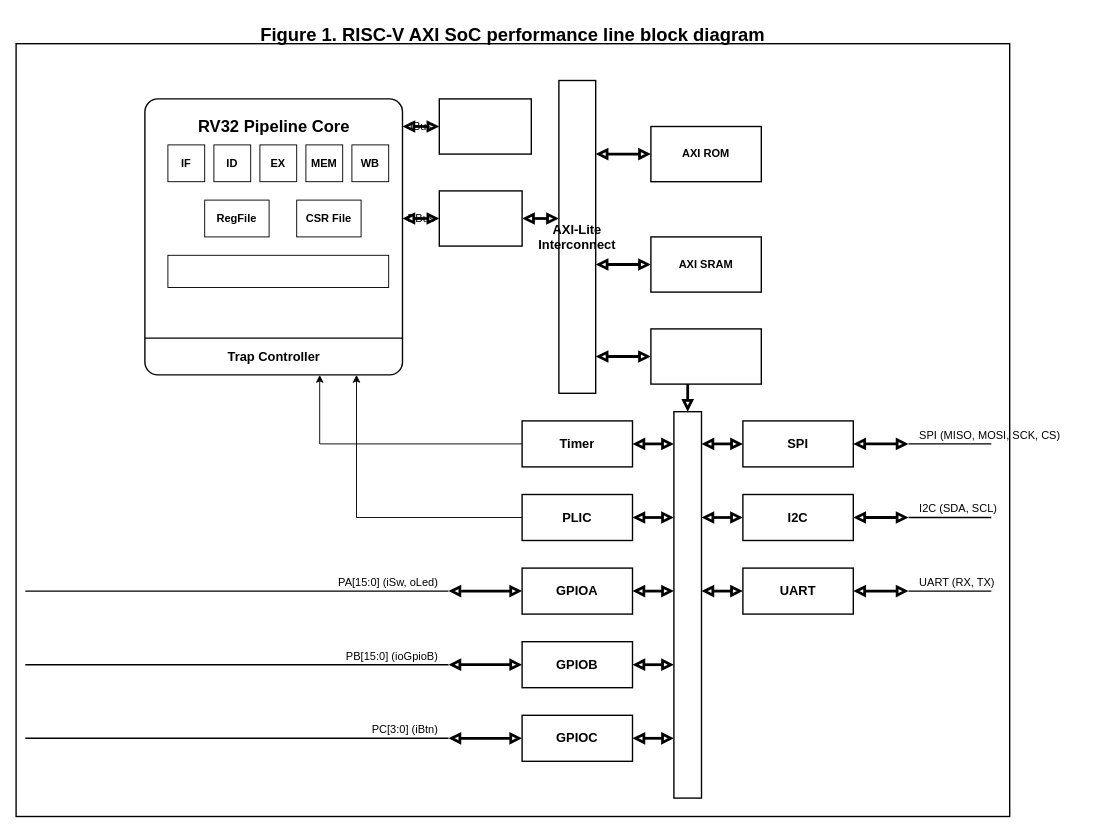
This 1118x833 diagram has some shape labels left out. Here are the shapes that lost their labels. From the top down, the centre of each, then its label:
point (485, 126): ICode ROM Local Bus
point (480, 218): AXI Adapter
point (278, 271): Hazard & Forwarding Unit
point (706, 356): AXI to APB Bridge
point (687, 604): APB Bus
